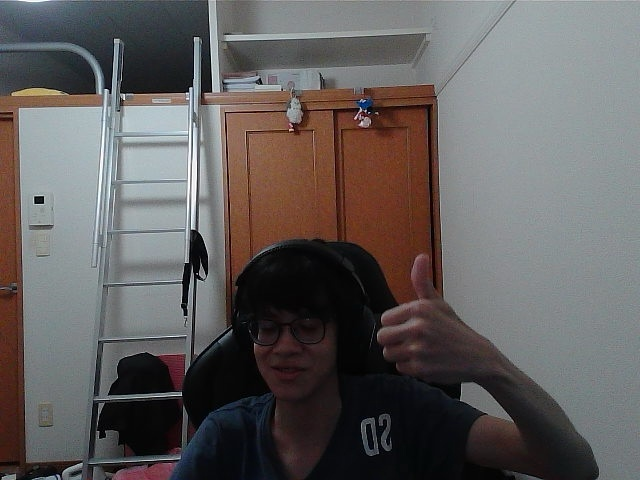thumb_up: (384, 261, 477, 369)
